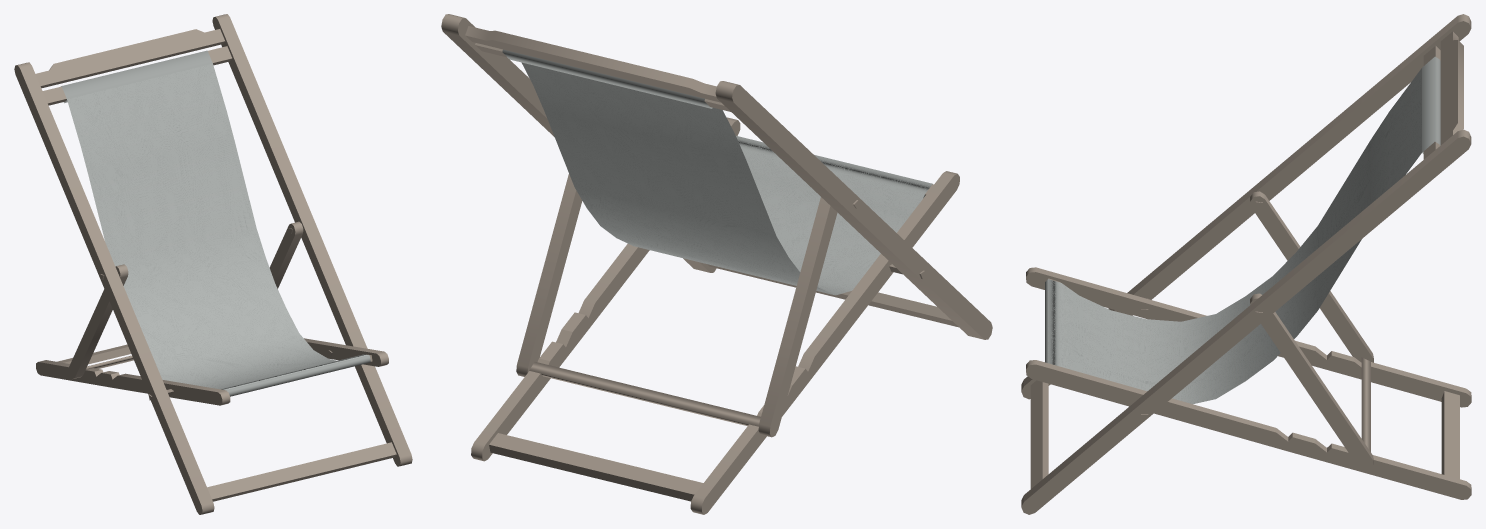
3 renders of one model, left to right at view 1: azimuth 30°, elevation 25°; view 2: azimuth 150°, elevation 25°; view 3: azimuth 270°, elevation 25°, orthographic. The views are drawn at different scales.
Parts seen in each view (by area): view 1: G:\FFXIV-MapTools\exports\s1f3\bg\ffxiv\sea_s1\fld\s1f3\bgpa (×3); view 2: G:\FFXIV-MapTools\exports\s1f3\bg\ffxiv\sea_s1\fld\s1f3\bgpa (×3); view 3: G:\FFXIV-MapTools\exports\s1f3\bg\ffxiv\sea_s1\fld\s1f3\bgpa (×3).
Part boxes in pixels (x1,y1,x2,y2): G:\FFXIV-MapTools\exports\s1f3\bg\ffxiv\sea_s1\fld\s1f3\bgpa (×3): [14, 14, 412, 514]; G:\FFXIV-MapTools\exports\s1f3\bg\ffxiv\sea_s1\fld\s1f3\bgpa (×3): [441, 14, 992, 514]; G:\FFXIV-MapTools\exports\s1f3\bg\ffxiv\sea_s1\fld\s1f3\bgpa (×3): [1021, 14, 1471, 514].
Bounding box in the file's own units: 0.8828 × 1.26 × 1.36.
